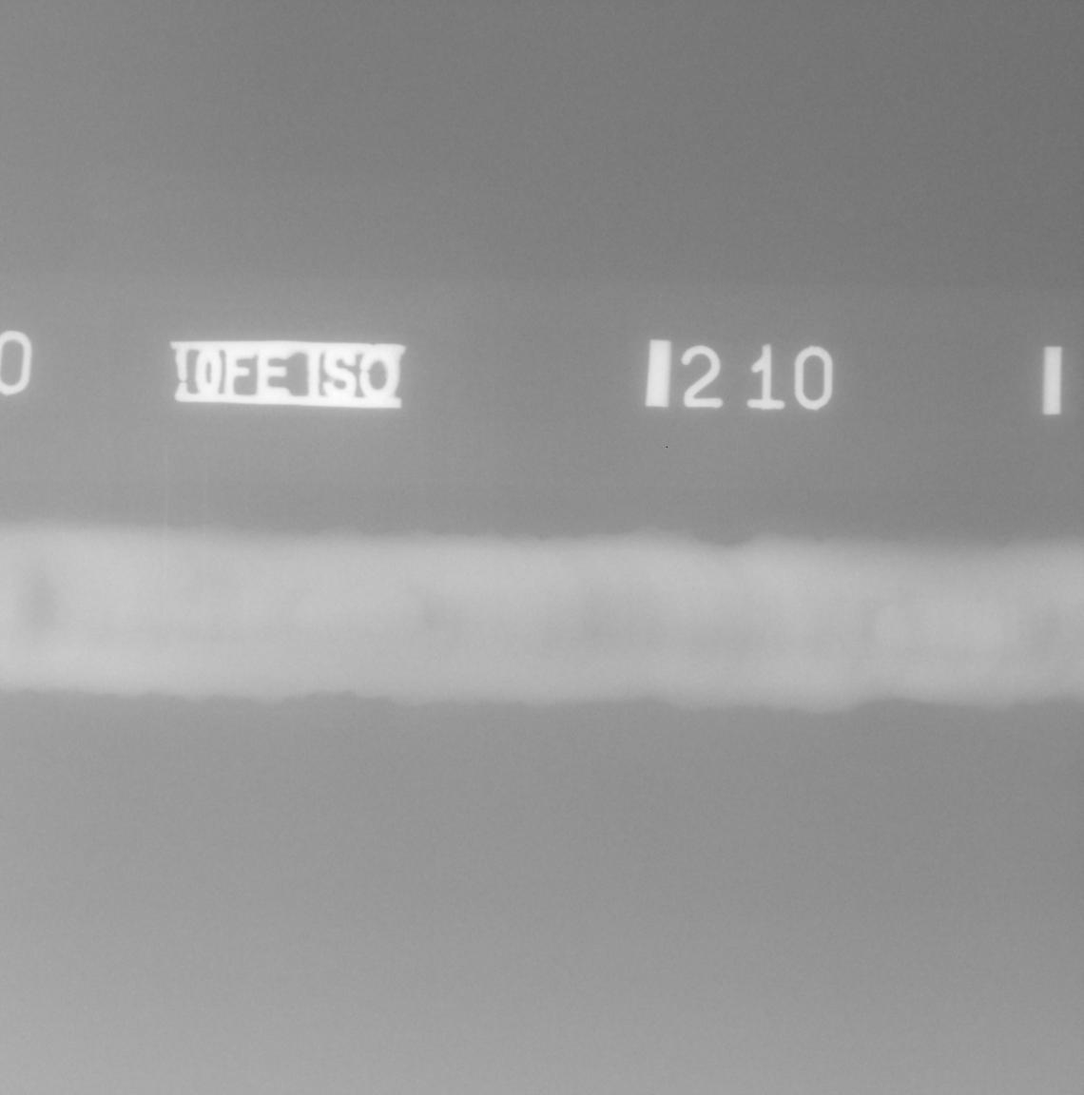Pore/Porosity: (1018, 619, 1025, 625), (898, 587, 902, 593)
